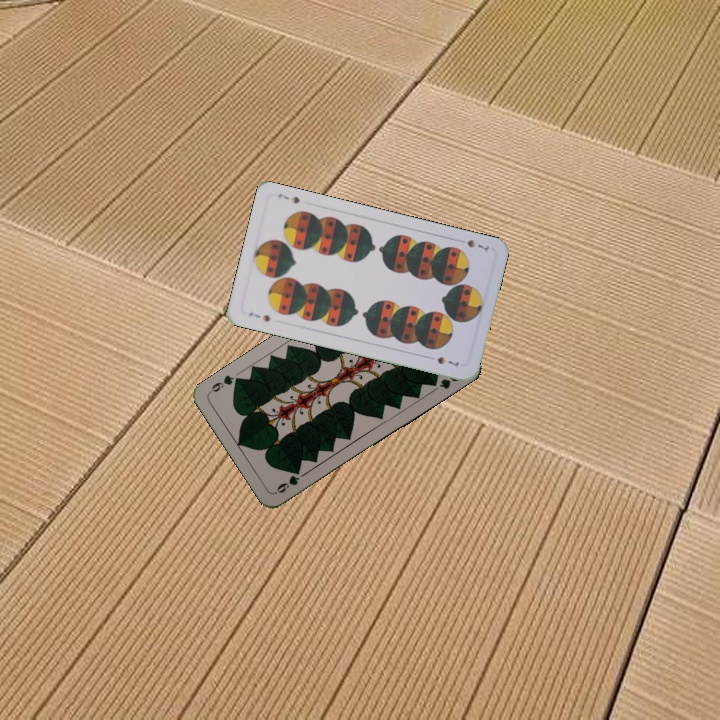G9: (272, 471, 302, 496)
S7: (463, 235, 492, 253), (245, 308, 273, 325)
